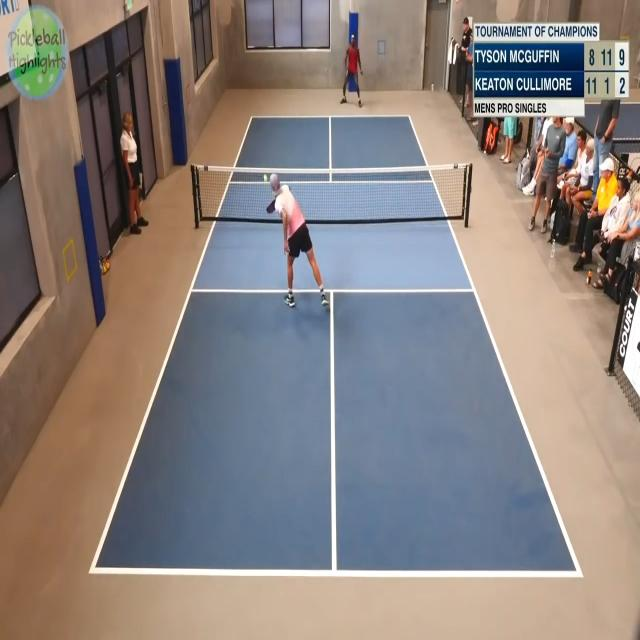Court: (93, 114, 581, 578)
ball: (259, 167, 275, 189)
